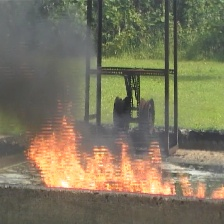fire: (24, 109, 197, 202)
